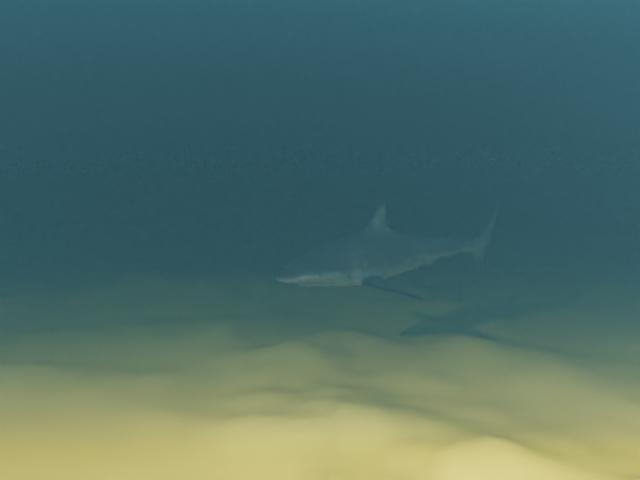Carribean Shark.001: (275, 197, 500, 299)
